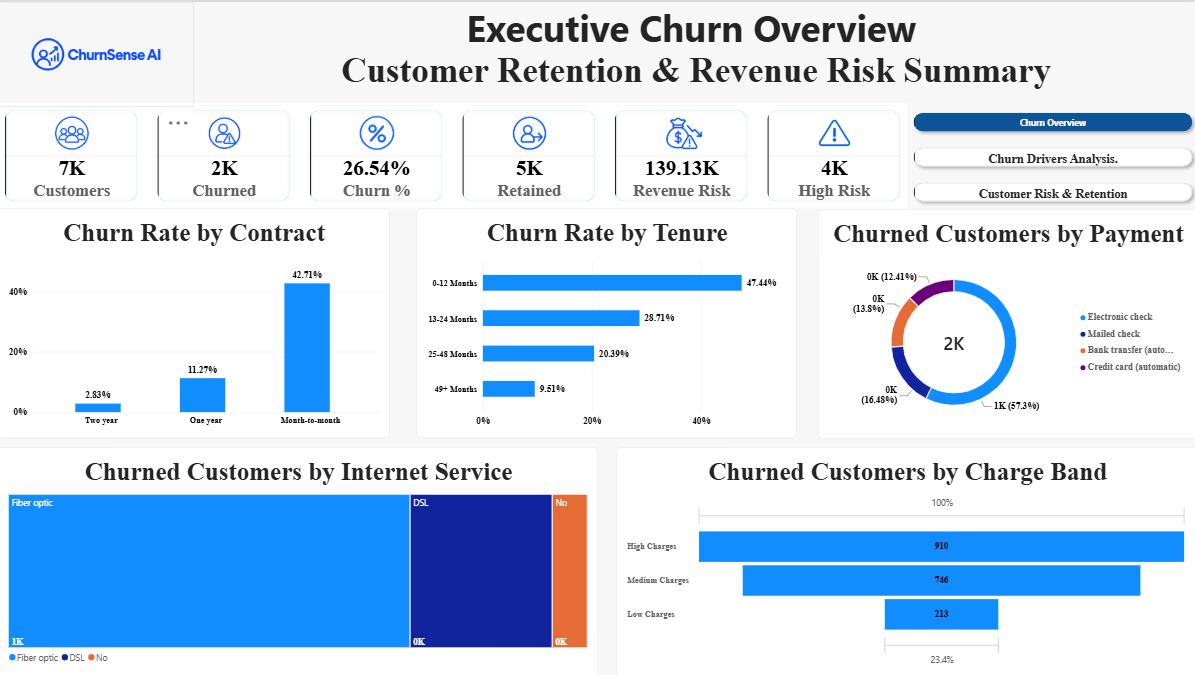

The page's visual inventory and layout, read from the dashboard file:
{"tool":"powerbi","page":{"name":"Churn Overview","canvas":[1920,1080],"ordinal":0},"visuals":[{"type":"cardVisual","fields":{"Data":["Fact_Churn.Total Customers","Fact_Churn.Churned Customers","Fact_Churn.Churn Rate %","Fact_Churn.Retained Customers","Sum(Fact_Churn.Monthly_Revenue_at_Risk)","Fact_Churn.High-Risk Customers"]},"box":[0,162,1456,168],"z":0},{"type":"clusteredColumnChart","title":"Churn Rate by Contract","fields":{"Category":["Dim_Contract.Contract"],"Y":["Fact_Churn.Churn Rate %"]},"box":[0,330,626,368],"z":1000},{"type":"clusteredBarChart","title":"Churn Rate by Tenure","fields":{"Category":["Dim_TenureGroup.Tenure_Group"],"Y":["Fact_Churn.Churn Rate %"]},"box":[670,330,608,368],"z":2000},{"type":"donutChart","title":"Churned Customers by Payment","fields":{"Category":["Dim_PaymentMethod.PaymentMethod"],"Y":["Fact_Churn.Churned Customers"]},"box":[1312,332,608,366],"z":3000},{"type":"treemap","title":"Churned Customers by Internet Service","fields":{"Group":["Dim_InternetService.InternetService"],"Values":["Fact_Churn.Churned Customers"]},"box":[0,712,960,368],"z":4000},{"type":"funnel","title":"Churned Customers by Charge Band","fields":{"Category":["Fact_Churn.Monthly_Charge_Band"],"Y":["Fact_Churn.Churned Customers"]},"box":[990,712,930,368],"z":5000},{"type":"image","box":[0,0,314,168],"z":6000},{"type":"textbox","box":[314,0,1606,162],"z":7000},{"type":"pageNavigator","box":[1456,168,464,162],"z":8000}]}

Visuals, with their boxes on the page's 1920x1080 design canvas (x1, y1, x2, y2). These are canvas units, not pixel positions in the 1195x675 screenshot, which may show the page scaled, cropped or inside an application window:
cardVisual - Fact_Churn.Total Customers x Fact_Churn.Churned Customers: crop(0, 162, 1456, 330)
"Churn Rate by Contract" clusteredColumnChart: crop(0, 330, 626, 698)
"Churn Rate by Tenure" clusteredBarChart: crop(670, 330, 1278, 698)
"Churned Customers by Payment" donutChart: crop(1312, 332, 1920, 698)
"Churned Customers by Internet Service" treemap: crop(0, 712, 960, 1080)
"Churned Customers by Charge Band" funnel: crop(990, 712, 1920, 1080)
image: crop(0, 0, 314, 168)
textbox: crop(314, 0, 1920, 162)
pageNavigator: crop(1456, 168, 1920, 330)
